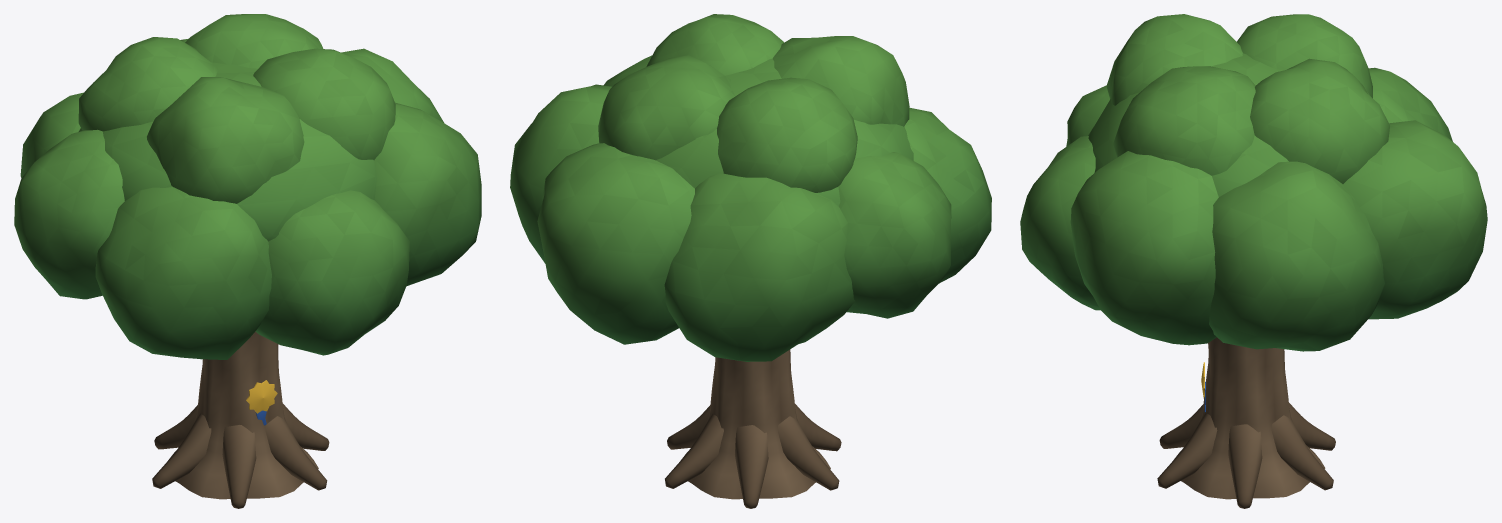
The model's file is TS_ChampionOak.glb.
3 views of the same model, side by side, from view 1: azimuth 30°, elevation 25°; view 2: azimuth 150°, elevation 25°; view 3: azimuth 270°, elevation 25° (orthographic).
Parts seen in each view (by area): view 1: TS_ChampionOak; view 2: TS_ChampionOak; view 3: TS_ChampionOak.
Boxes of the visible parts, <box> form: TS_ChampionOak: <box>14,14,481,508</box>; TS_ChampionOak: <box>510,14,991,508</box>; TS_ChampionOak: <box>1020,14,1487,508</box>.
Bounding box in the file's own units: 42.39 × 41.04 × 41.06.
